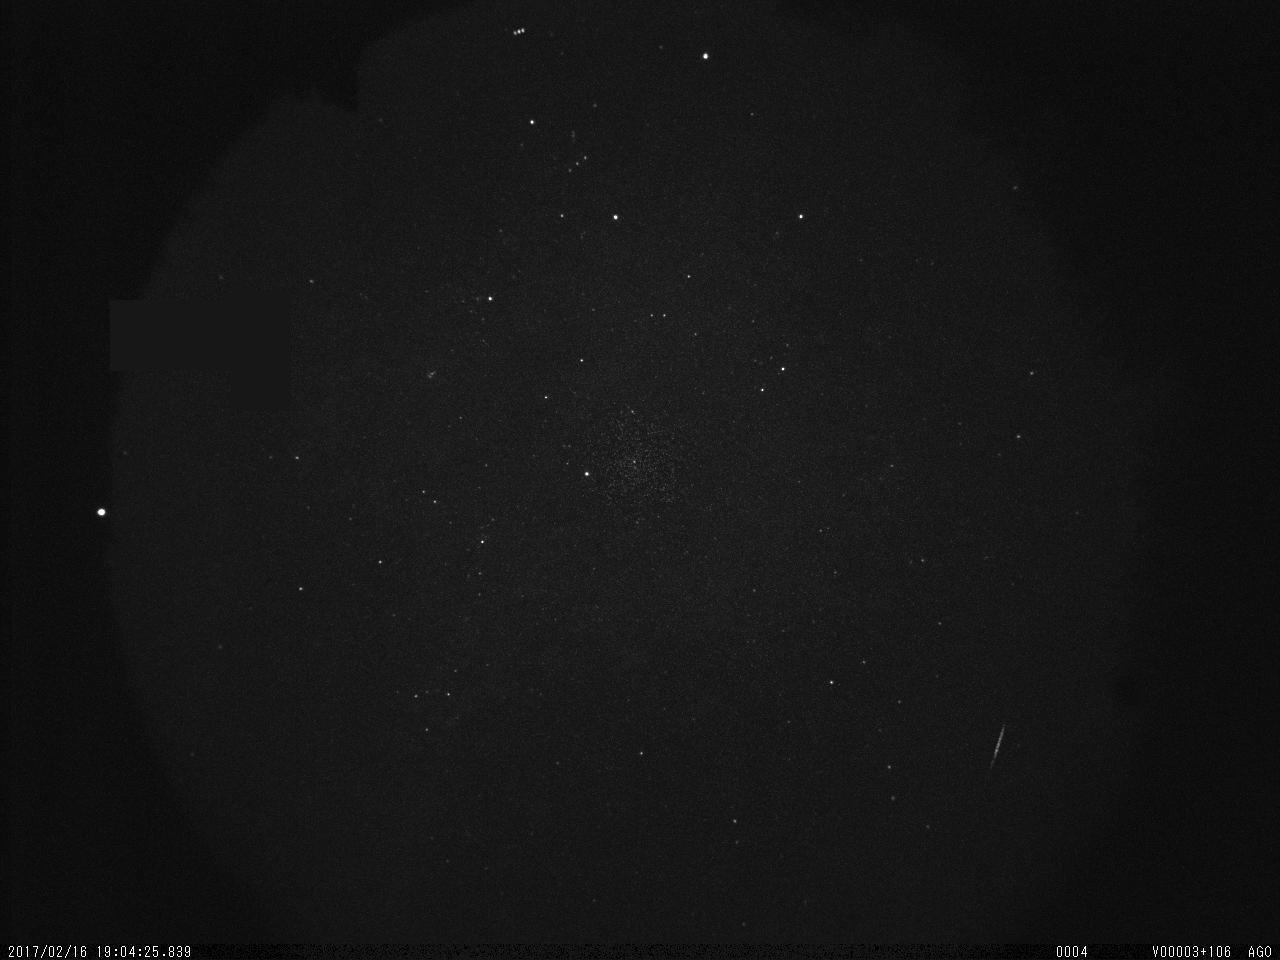Meteor: (987, 721, 1007, 770)
